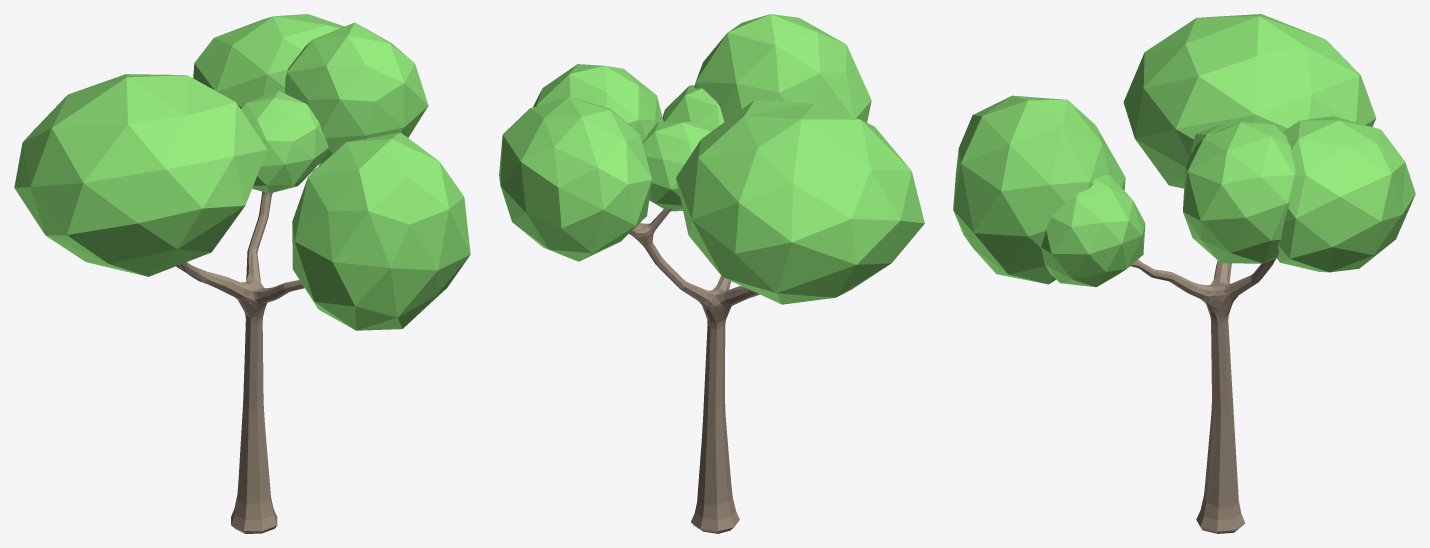
File: Tree_1.fbx
3 renders of one model, left to right at view 1: azimuth 30°, elevation 25°; view 2: azimuth 150°, elevation 25°; view 3: azimuth 270°, elevation 25°, orthographic. The views are drawn at different scales.
Visible parts, largest first — view 1: Icosphere.001; view 2: Icosphere.001; view 3: Icosphere.001.
Part boxes in pixels (left/top/right/bottom): Icosphere.001: left=14, top=14, right=470, bottom=533; Icosphere.001: left=499, top=14, right=924, bottom=533; Icosphere.001: left=953, top=14, right=1415, bottom=533.
Size of the model in its own units: 1872 by 2168 by 1982.
